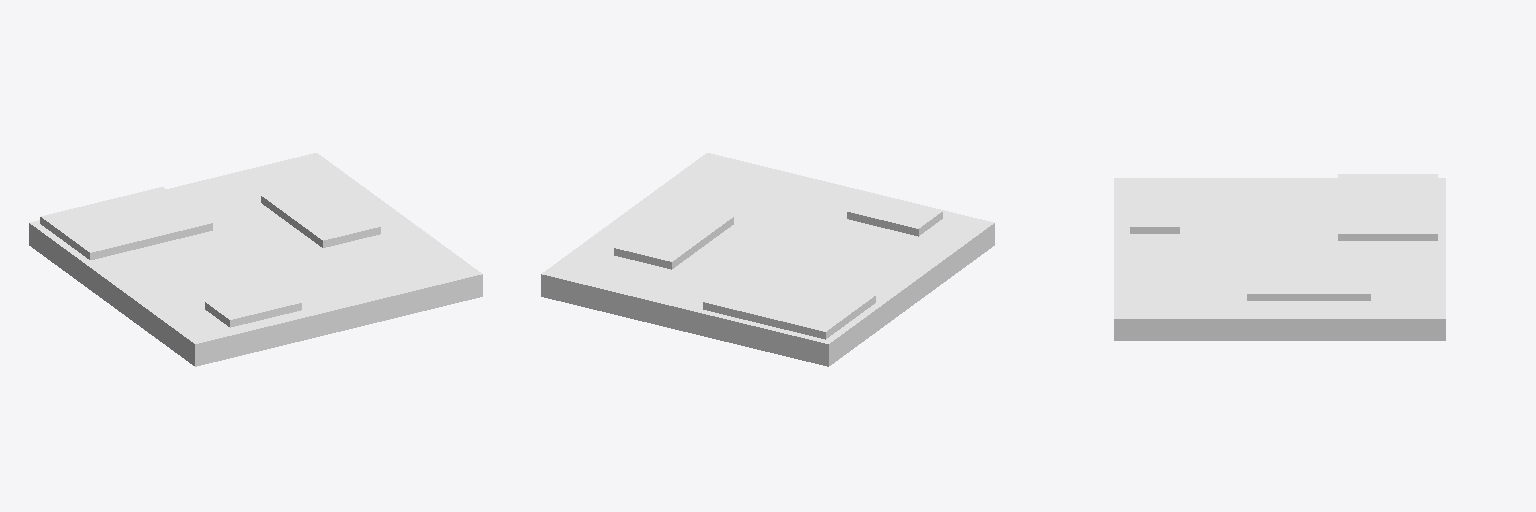
The model's file is moon_tiles-2.obj.
3 renders of one model, left to right at view 1: azimuth 30°, elevation 25°; view 2: azimuth 150°, elevation 25°; view 3: azimuth 270°, elevation 25°, orthographic.
Parts seen in each view (by area): view 1: object 1; view 2: object 1; view 3: object 1.
Part boxes in pixels (bbox=[...]): object 1: bbox=[29, 153, 482, 366]; object 1: bbox=[541, 153, 994, 366]; object 1: bbox=[1114, 174, 1445, 340].
Bounding box in the file's own units: 4 × 0.4 × 4.